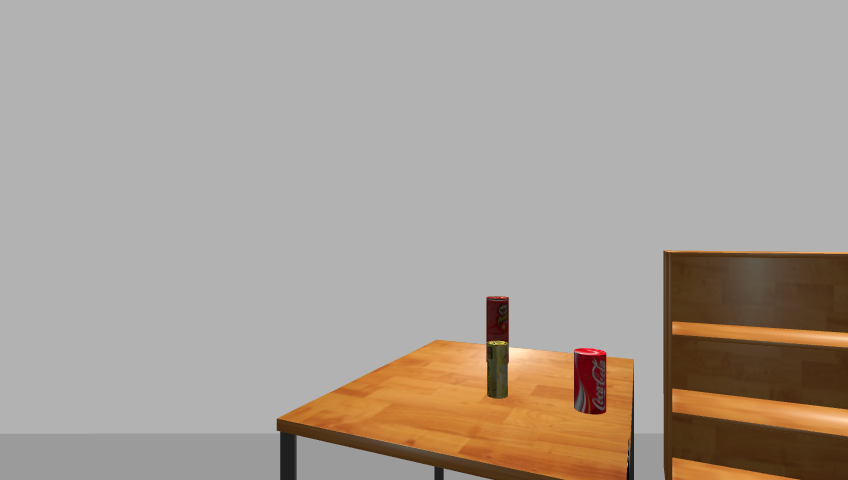biscuits pack: (486, 341, 509, 400)
bookshelf: (658, 249, 848, 479)
coke can: (571, 348, 609, 415)
dinner table: (269, 339, 636, 480)
pringles can: (483, 294, 511, 371)
